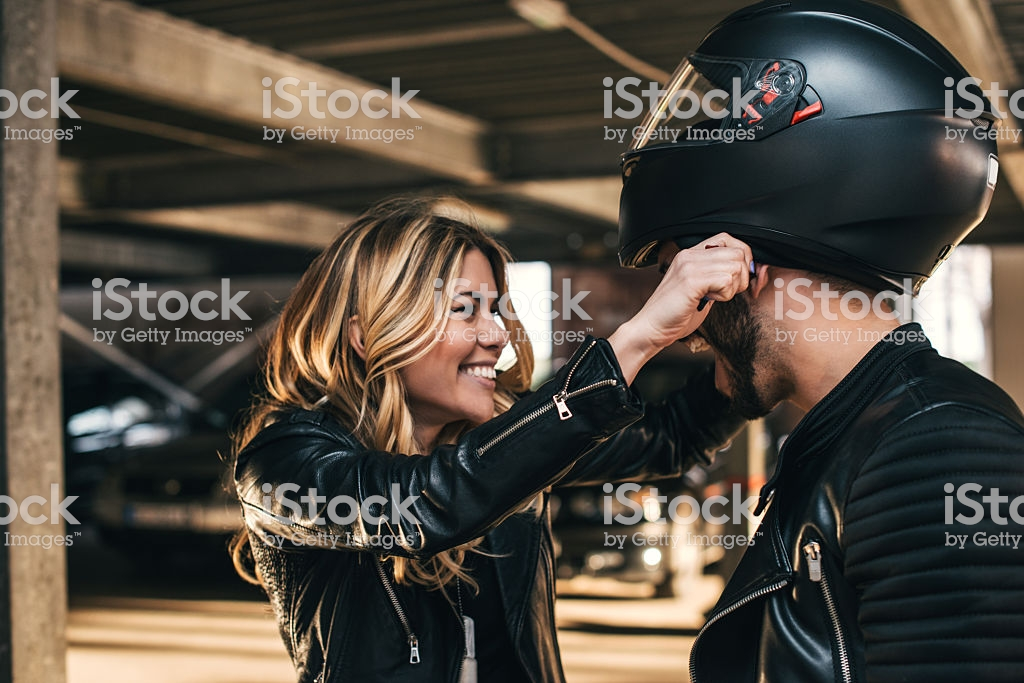helmet: (619, 21, 968, 287)
